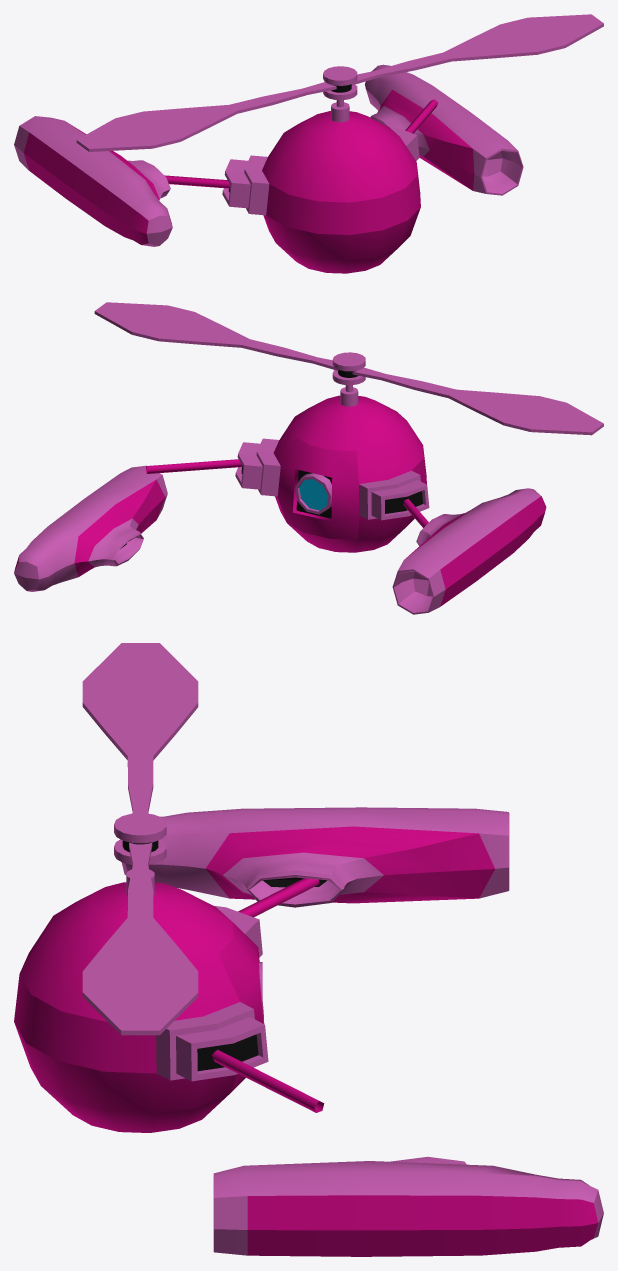
File: Enemy01.fbx
3 renders of one model, top to bottom at view 1: azimuth 30°, elevation 25°; view 2: azimuth 150°, elevation 25°; view 3: azimuth 270°, elevation 25°, orthographic. The views are drawn at different scales.
Visible parts, largest first — view 1: Body, Propeller, Canon001, Canon002, Arm001, Arm002; view 2: Body, Canon001, Propeller, Canon002, Camera, Arm002; view 3: Body, Canon002, Canon001, Propeller, Arm002, Arm001.
Boxes of the visible parts, bbox=[...] form: Body: bbox=[222, 66, 420, 273]; Propeller: bbox=[76, 14, 603, 151]; Canon001: bbox=[14, 116, 172, 246]; Canon002: bbox=[365, 64, 523, 195]; Arm001: bbox=[164, 175, 230, 188]; Arm002: bbox=[405, 99, 438, 133]; Body: bbox=[235, 352, 429, 552]; Canon001: bbox=[392, 488, 546, 614]; Propeller: bbox=[94, 302, 603, 435]; Canon002: bbox=[14, 465, 167, 591]; Camera: bbox=[295, 473, 331, 514]; Arm002: bbox=[146, 459, 242, 473]; Body: bbox=[14, 813, 268, 1132]; Canon002: bbox=[213, 1156, 603, 1256]; Canon001: bbox=[121, 807, 509, 907]; Propeller: bbox=[82, 643, 198, 1035]; Arm002: bbox=[212, 1049, 324, 1112]; Arm001: bbox=[238, 878, 319, 917].
Size of the model in its own units: 142 by 51.1 by 91.22.
